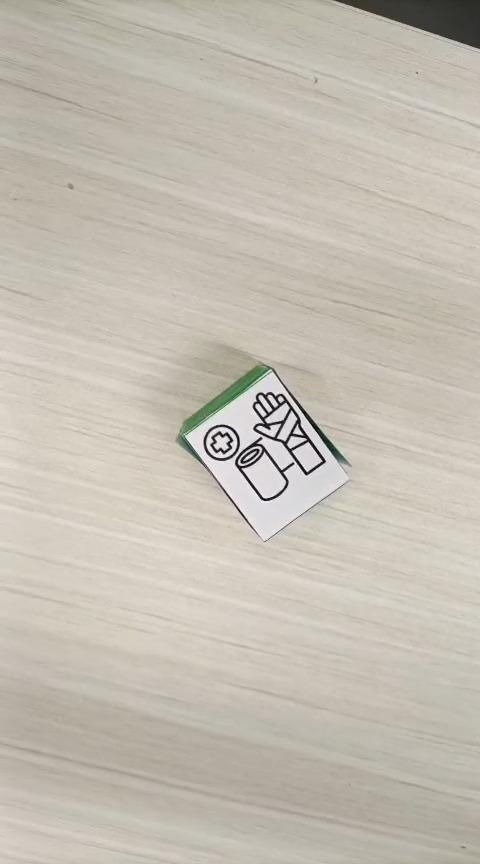Bandages: (177, 362, 350, 542)
